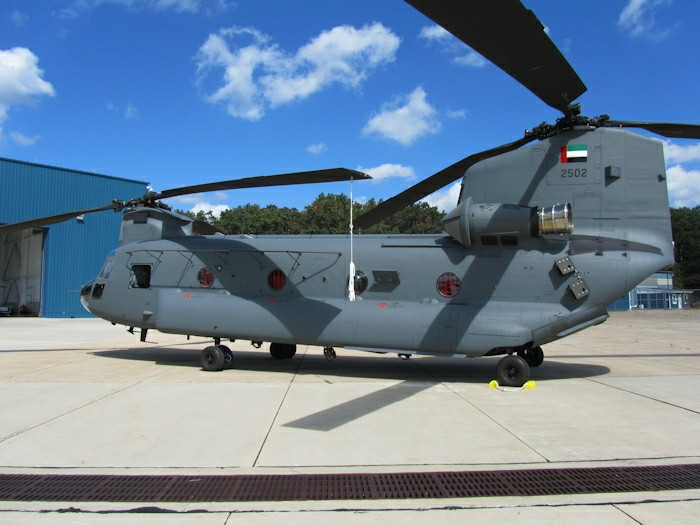chinook: (38, 43, 683, 394)
